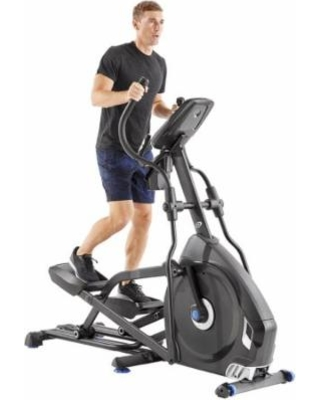gym_bike: (117, 110, 292, 387)
